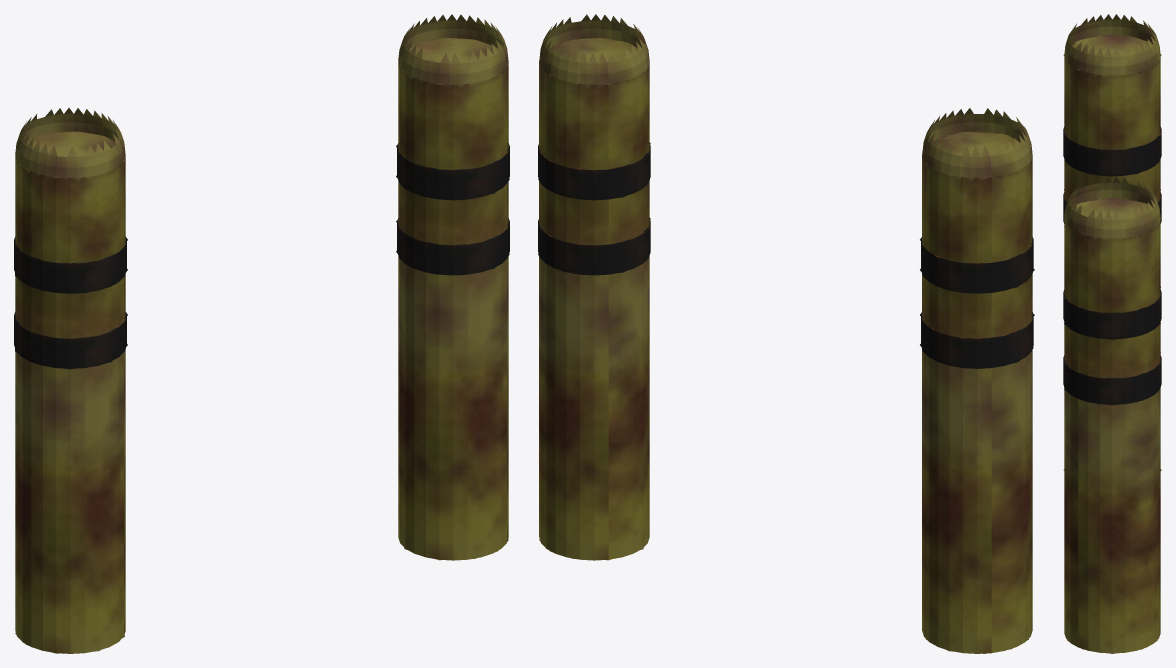
File: ST05_Bollards.glb
3 renders of one model, left to right at view 1: azimuth 30°, elevation 25°; view 2: azimuth 150°, elevation 25°; view 3: azimuth 270°, elevation 25°, orthographic. The views are drawn at different scales.
Visible parts, largest first — view 1: ST05_Bollards; view 2: ST05_Bollards; view 3: ST05_Bollards.
Part boxes in pixels (left/top/right/bottom): ST05_Bollards: left=14, top=14, right=509, bottom=653; ST05_Bollards: left=538, top=14, right=1034, bottom=653; ST05_Bollards: left=1063, top=14, right=1161, bottom=653.
Bounding box in the file's own units: 0.9583 × 0.958 × 0.1947.
Materials: 2 (2 with a texture image).
